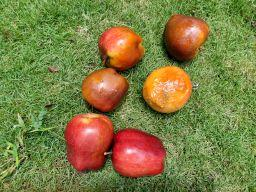apple: (97, 122, 171, 183), (57, 106, 116, 181), (76, 69, 136, 118), (92, 19, 146, 73), (137, 66, 195, 115), (157, 11, 210, 63)
